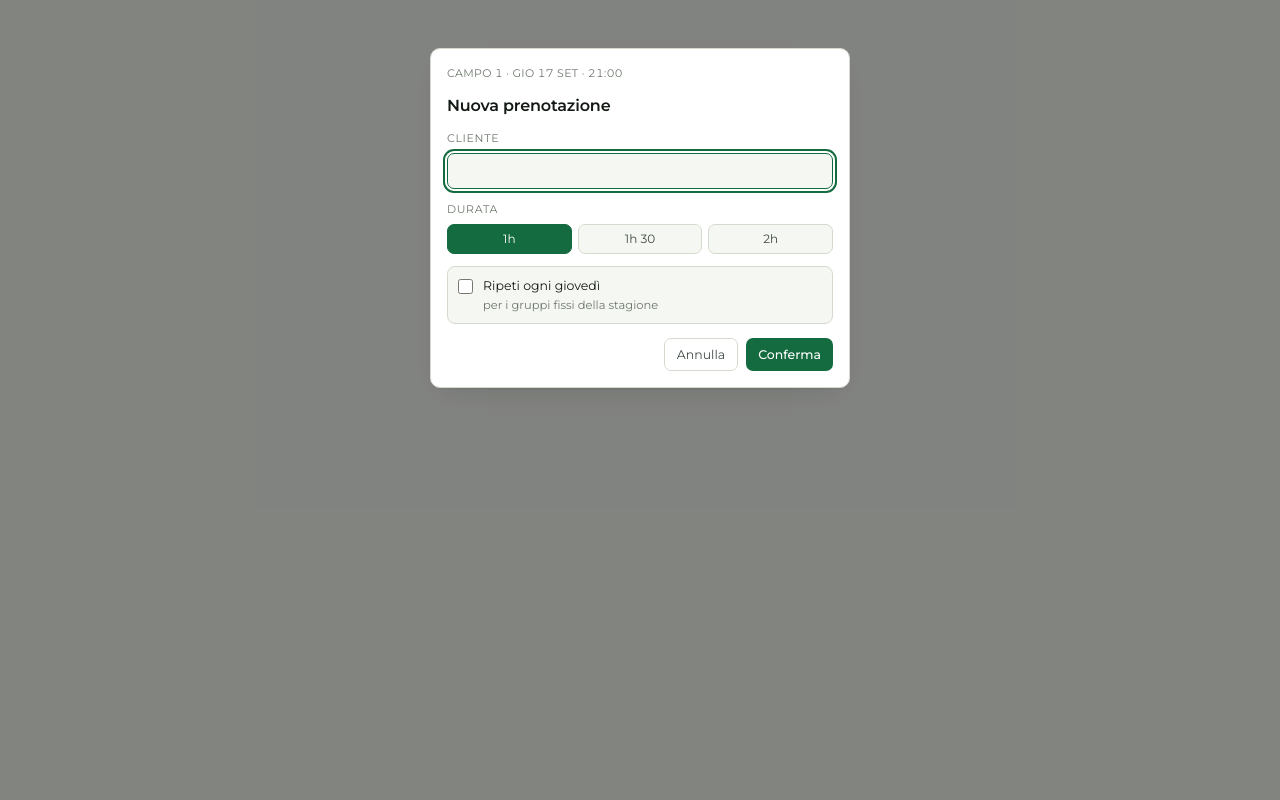
NewBookingDialog — riconoscere chi telefona › su un cliente che esiste già il telefono non è più scrivibile
Type "Mario Neri" into the field labelled "Cliente" at {"x": 640, "y": 171}, box left=447, top=153, right=833, bottom=189
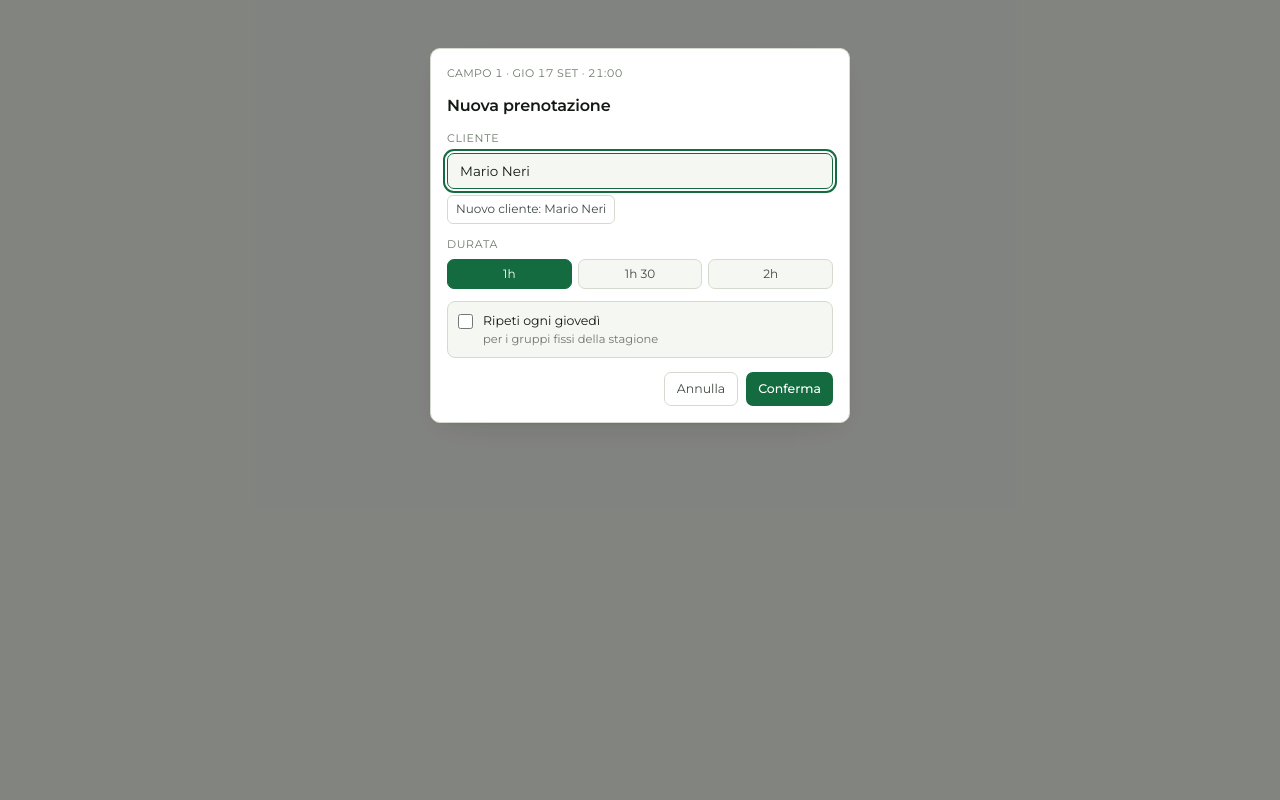
Click the button "Nuovo cliente: Mario Neri" at {"x": 531, "y": 209}, box left=447, top=195, right=615, bottom=224
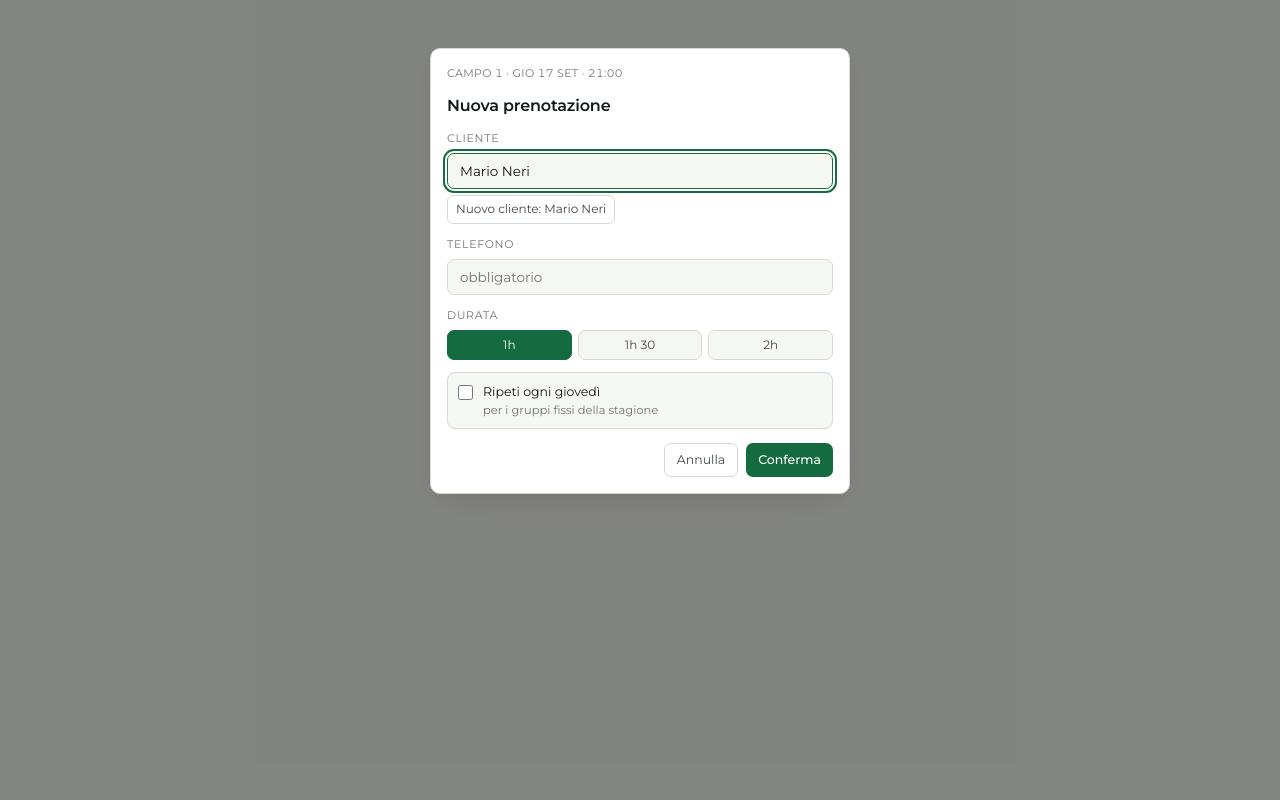
Type "3339990000" into the field labelled "Telefono" at {"x": 640, "y": 277}, box left=447, top=259, right=833, bottom=295
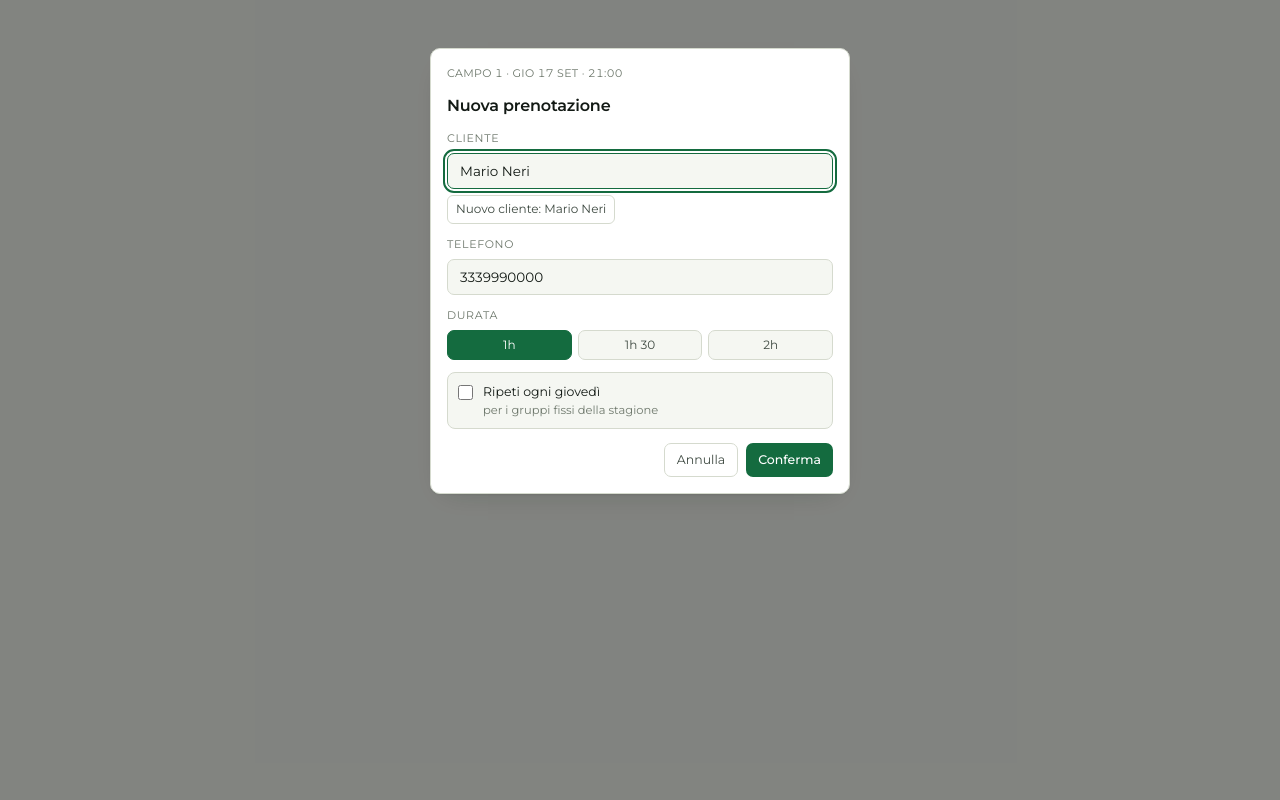
Click the button "Conferma" at {"x": 790, "y": 460}, box left=746, top=443, right=833, bottom=477
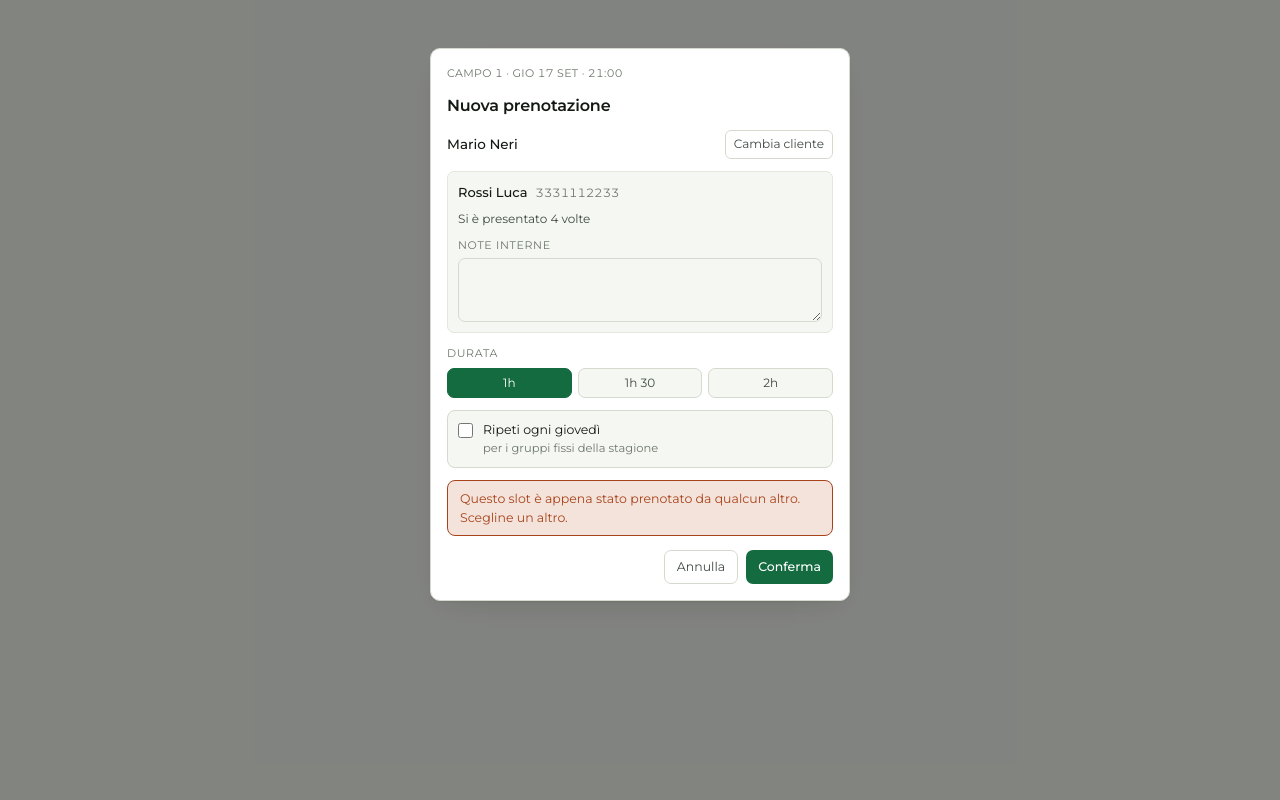
Expected: the message "Questo slot è appena stato prenotato da qualcun altro. Scegline un altro." is shown, left=447, top=480, right=833, bottom=536
Expected: the text "Telefono" is gone
